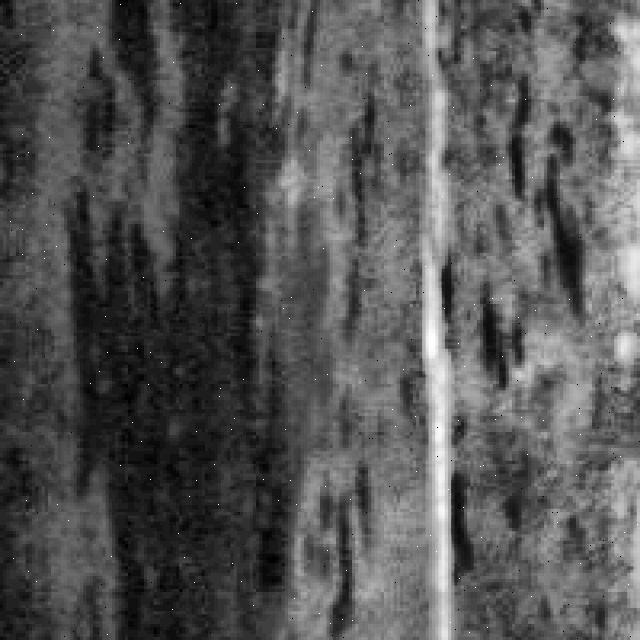Inclusion: (416, 44, 470, 630)
Patches: (83, 0, 336, 627), (499, 74, 595, 320)
